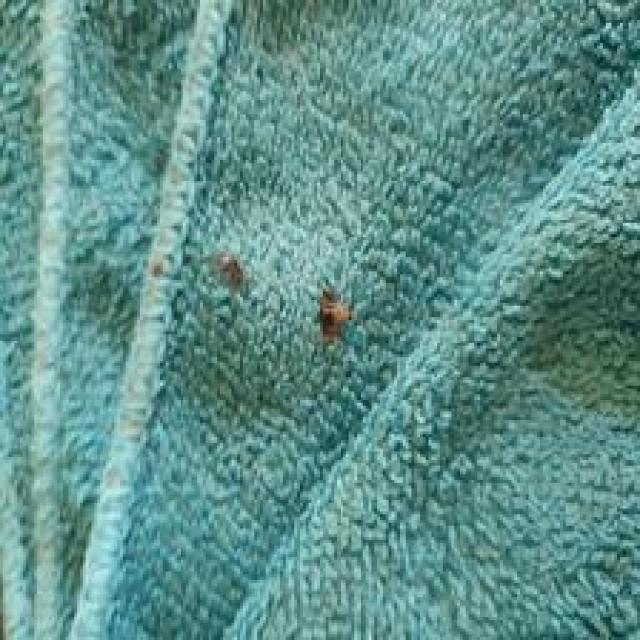Culex: (314, 286, 354, 346)
